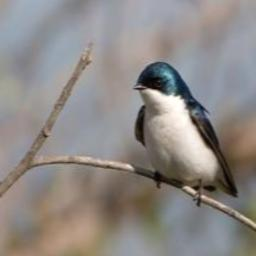Swallow: (134, 60, 240, 208)
